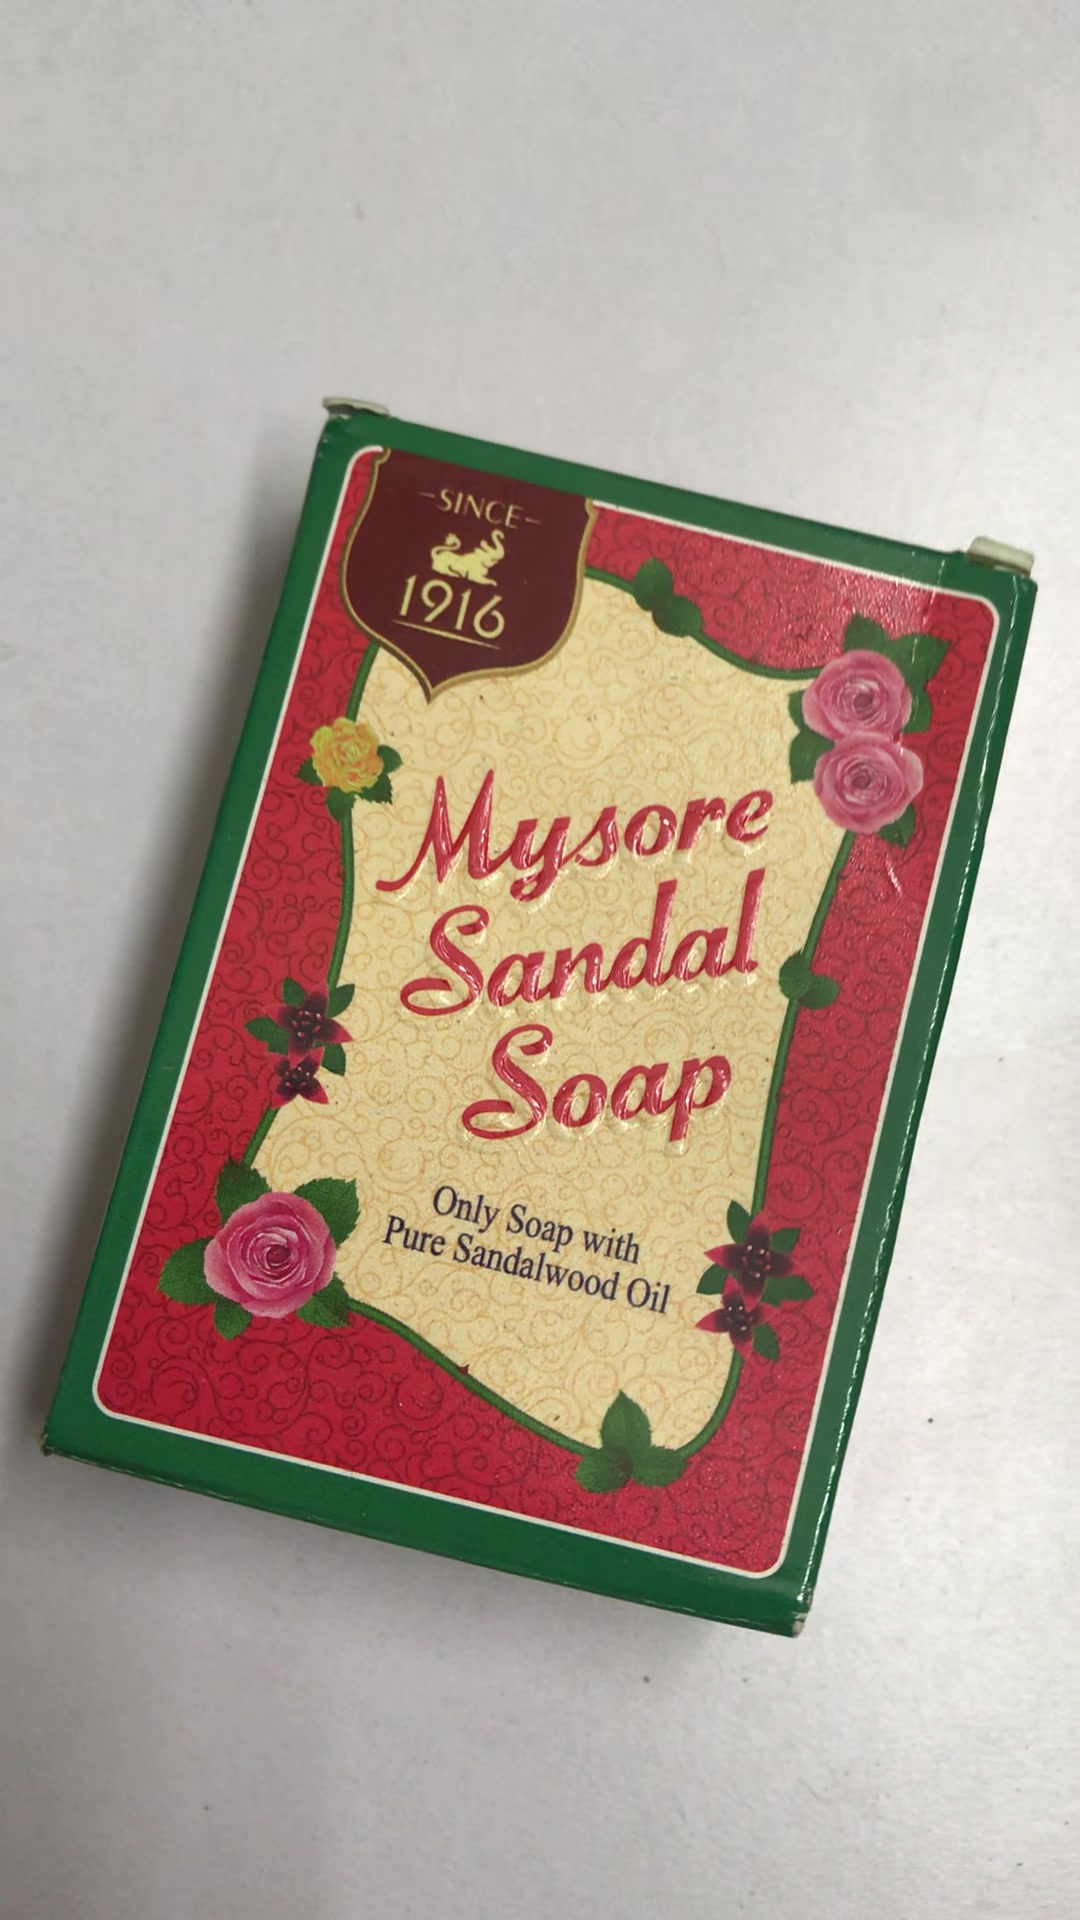mysore sandal soap: (36, 400, 1043, 1629)
